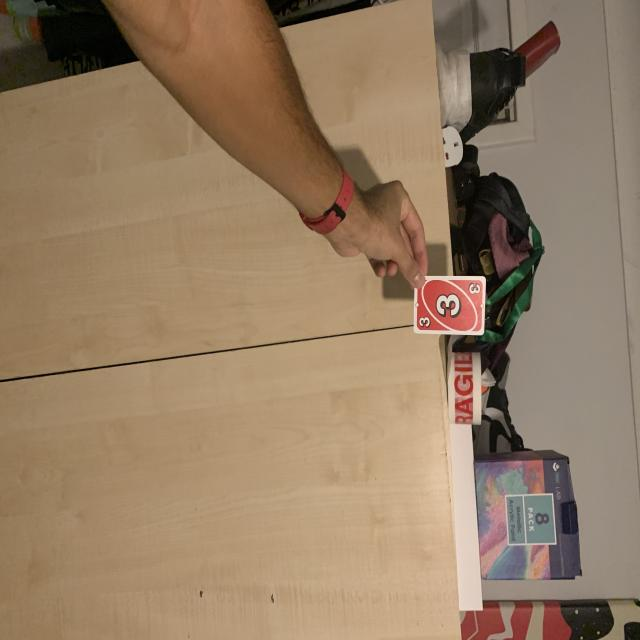lred-3: (466, 280, 483, 297)
